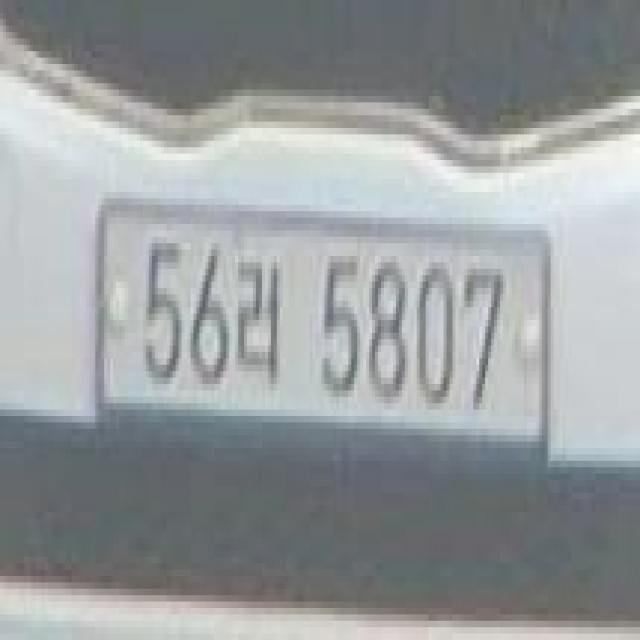illegal_plate: (89, 186, 552, 482)
